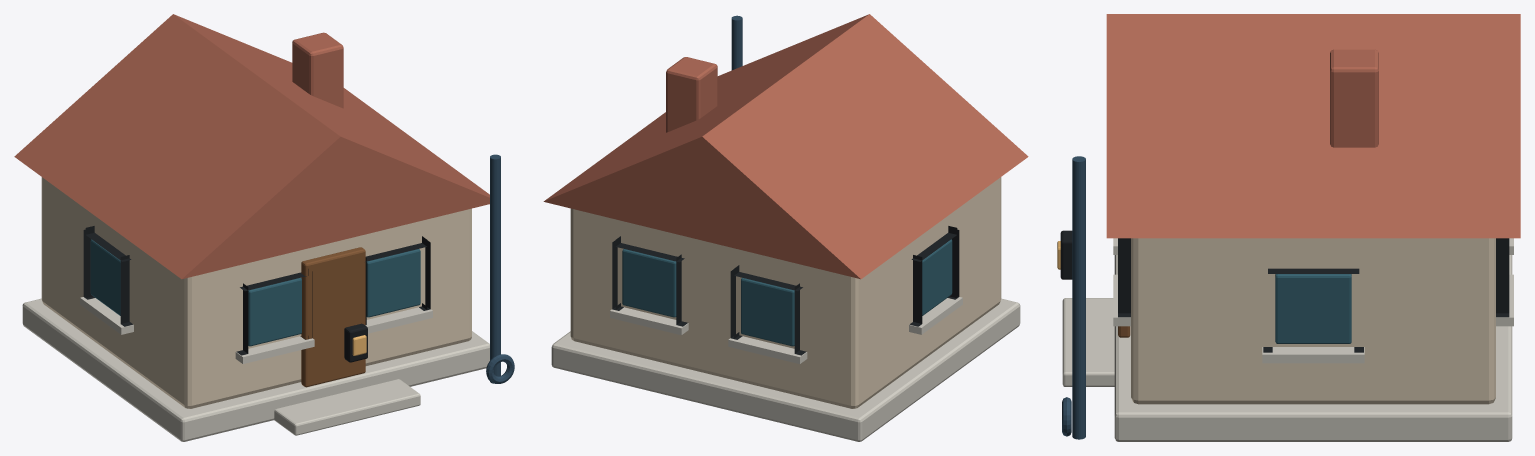
Rendered from RES_LOW_1x1_001.glb.
3 views of the same model, side by side, from view 1: azimuth 30°, elevation 25°; view 2: azimuth 150°, elevation 25°; view 3: azimuth 270°, elevation 25° (orthographic). The views are drawn at different scales.
Parts seen in each view (by area): view 1: RES_LOW_1x1_001_Visual; view 2: RES_LOW_1x1_001_Visual; view 3: RES_LOW_1x1_001_Visual.
Boxes of the visible parts, x1,y1,x2,y2 form: RES_LOW_1x1_001_Visual: (14,14,514,441); RES_LOW_1x1_001_Visual: (543,14,1028,441); RES_LOW_1x1_001_Visual: (1057,14,1520,441).
Size of what is drawn, in the model's own units: 1.66 by 1.37 by 1.7.
